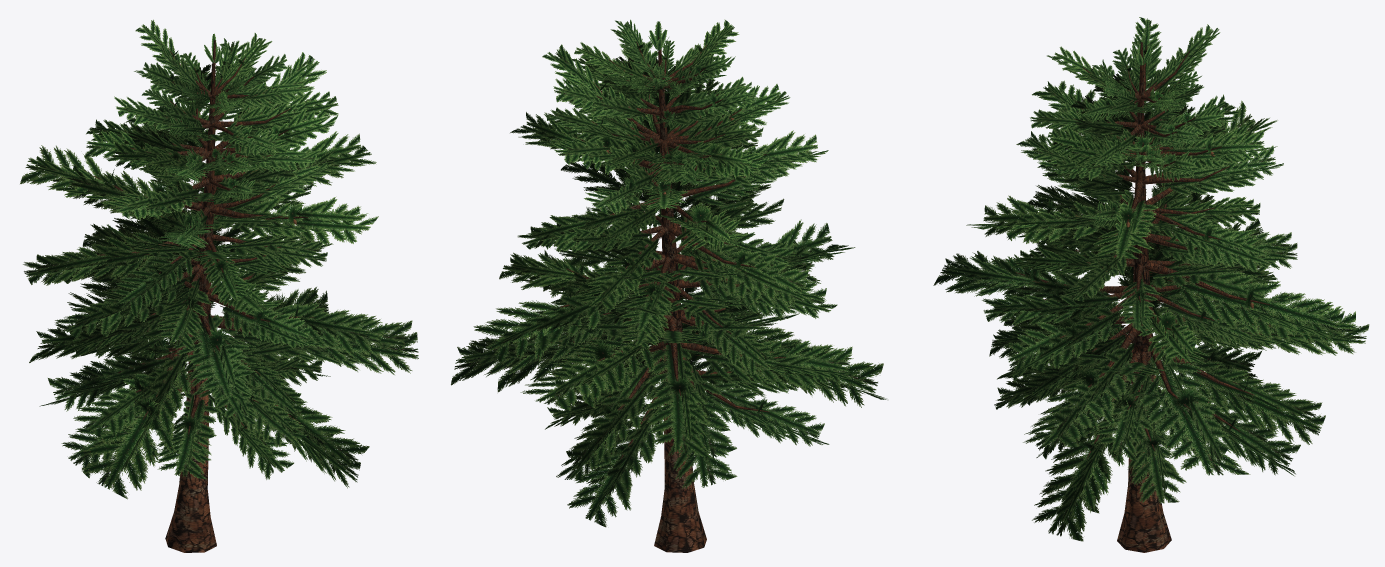
File: pine-large-mid.glb
3 views of the same model, side by side, from view 1: azimuth 30°, elevation 25°; view 2: azimuth 150°, elevation 25°; view 3: azimuth 270°, elevation 25° (orthographic). The views are drawn at different scales.
Parts seen in each view (by area): view 1: pine_large_mid; view 2: pine_large_mid; view 3: pine_large_mid.
Part boxes in pixels (bbox=[...]): pine_large_mid: bbox=[20, 19, 418, 552]; pine_large_mid: bbox=[451, 19, 886, 552]; pine_large_mid: bbox=[933, 17, 1369, 552].
Size of the model in its own units: 11.98 by 15.55 by 12.12.
1 material, 1 textured.
